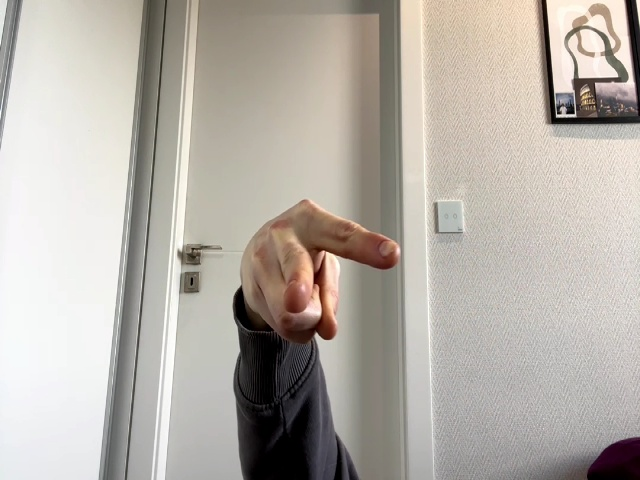U: (240, 199, 400, 343)
